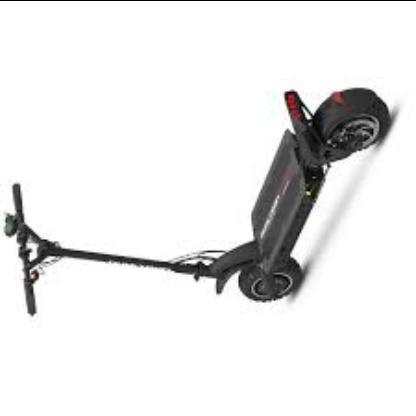bike: (1, 86, 394, 315)
